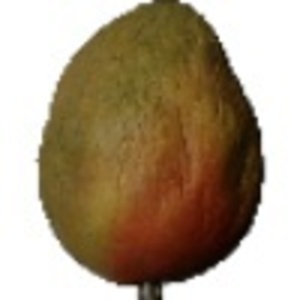mamão: (32, 4, 266, 288)
